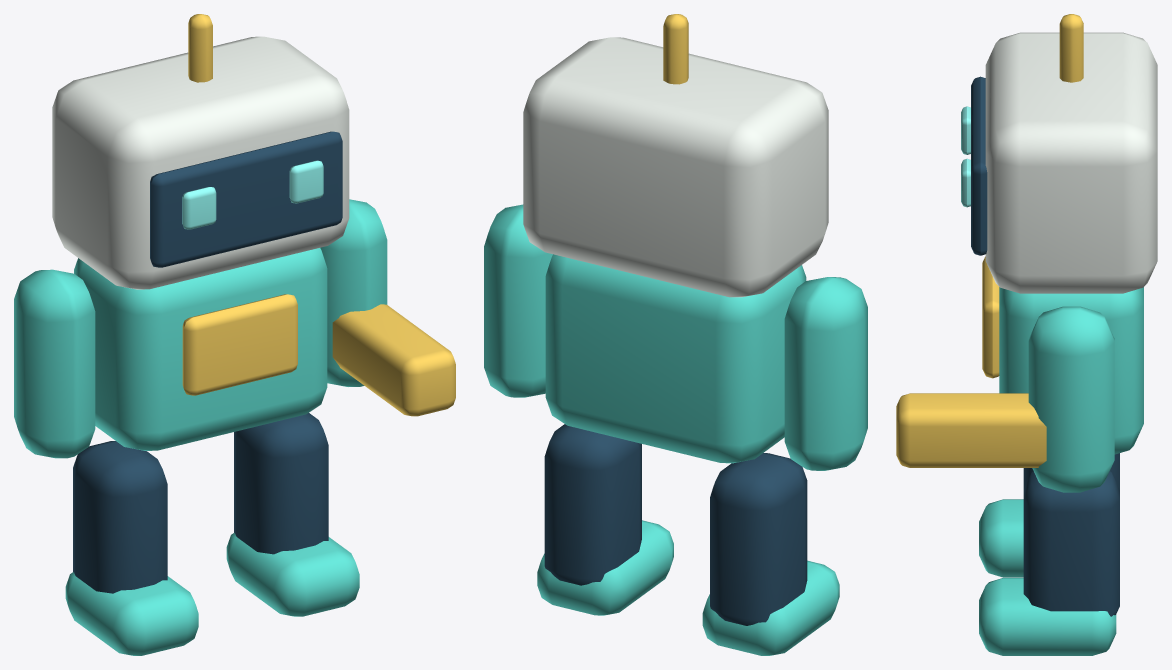
File: robot.glb
The picture shows the model from 3 angles, left to right: view 1: azimuth 30°, elevation 25°; view 2: azimuth 150°, elevation 25°; view 3: azimuth 270°, elevation 25°; orthographic projection. The views are drawn at different scales.
Parts seen in each view (by area): view 1: Head, Body, Face, Arm_L, Leg_L, Leg_R, Blaster, Chest, Boot_R, Boot_L, Arm_R, Antenna (+2 smaller); view 2: Head, Body, Arm_L, Leg_L, Leg_R, Arm_R, Boot_L, Boot_R, Antenna; view 3: Head, Arm_R, Leg_R, Blaster, Body, Boot_R, Boot_L, Face, Chest, Antenna, Eye, Eye.001.
Boxes of the visible parts, left/top/right/bottom form: Head: left=52, top=36, right=349, bottom=289; Body: left=74, top=248, right=327, bottom=450; Face: left=150, top=131, right=342, bottom=267; Arm_L: left=14, top=269, right=95, bottom=458; Leg_L: left=73, top=441, right=167, bottom=593; Leg_R: left=234, top=413, right=328, bottom=554; Blaster: left=332, top=304, right=455, bottom=416; Chest: left=182, top=294, right=297, bottom=395; Boot_R: left=226, top=532, right=359, bottom=616; Boot_L: left=65, top=572, right=198, bottom=655; Arm_R: left=320, top=199, right=387, bottom=386; Antenna: left=188, top=14, right=212, bottom=82; Head: left=523, top=37, right=828, bottom=297; Body: left=545, top=254, right=806, bottom=463; Arm_L: left=784, top=277, right=867, bottom=470; Leg_L: left=710, top=453, right=807, bottom=625; Leg_R: left=544, top=424, right=641, bottom=585; Arm_R: left=484, top=204, right=552, bottom=397; Boot_L: left=702, top=560, right=839, bottom=655; Boot_R: left=537, top=520, right=673, bottom=615; Antenna: left=663, top=14, right=688, bottom=84; Head: left=985, top=32, right=1157, bottom=293; Arm_R: left=1028, top=306, right=1114, bottom=492; Leg_R: left=1023, top=471, right=1119, bottom=616; Blaster: left=896, top=393, right=1046, bottom=467; Body: left=999, top=287, right=1143, bottom=454; Boot_R: left=979, top=578, right=1116, bottom=655; Boot_L: left=979, top=499, right=1023, bottom=577; Face: left=971, top=76, right=987, bottom=255; Chest: left=982, top=256, right=999, bottom=378; Antenna: left=1059, top=14, right=1083, bottom=82; Eye: left=961, top=106, right=970, bottom=154; Eye.001: left=961, top=158, right=970, bottom=207.
Size of the model in its own units: 1.2 by 1.89 by 0.76.
